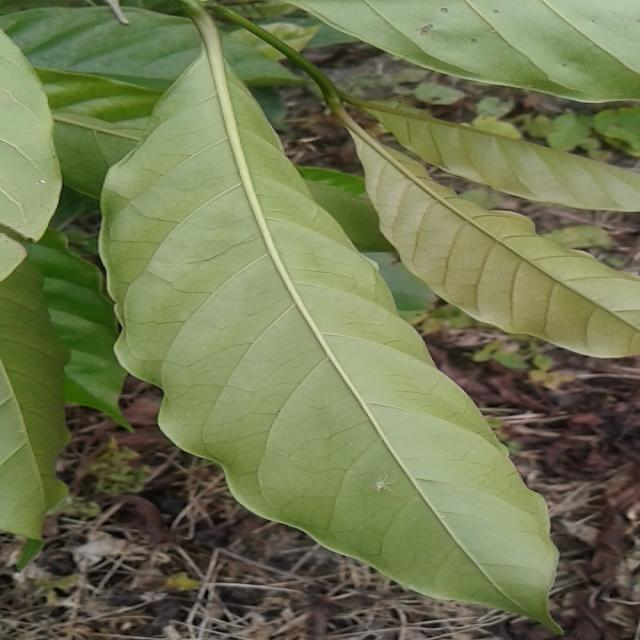Sanas: (95, 14, 558, 626)
